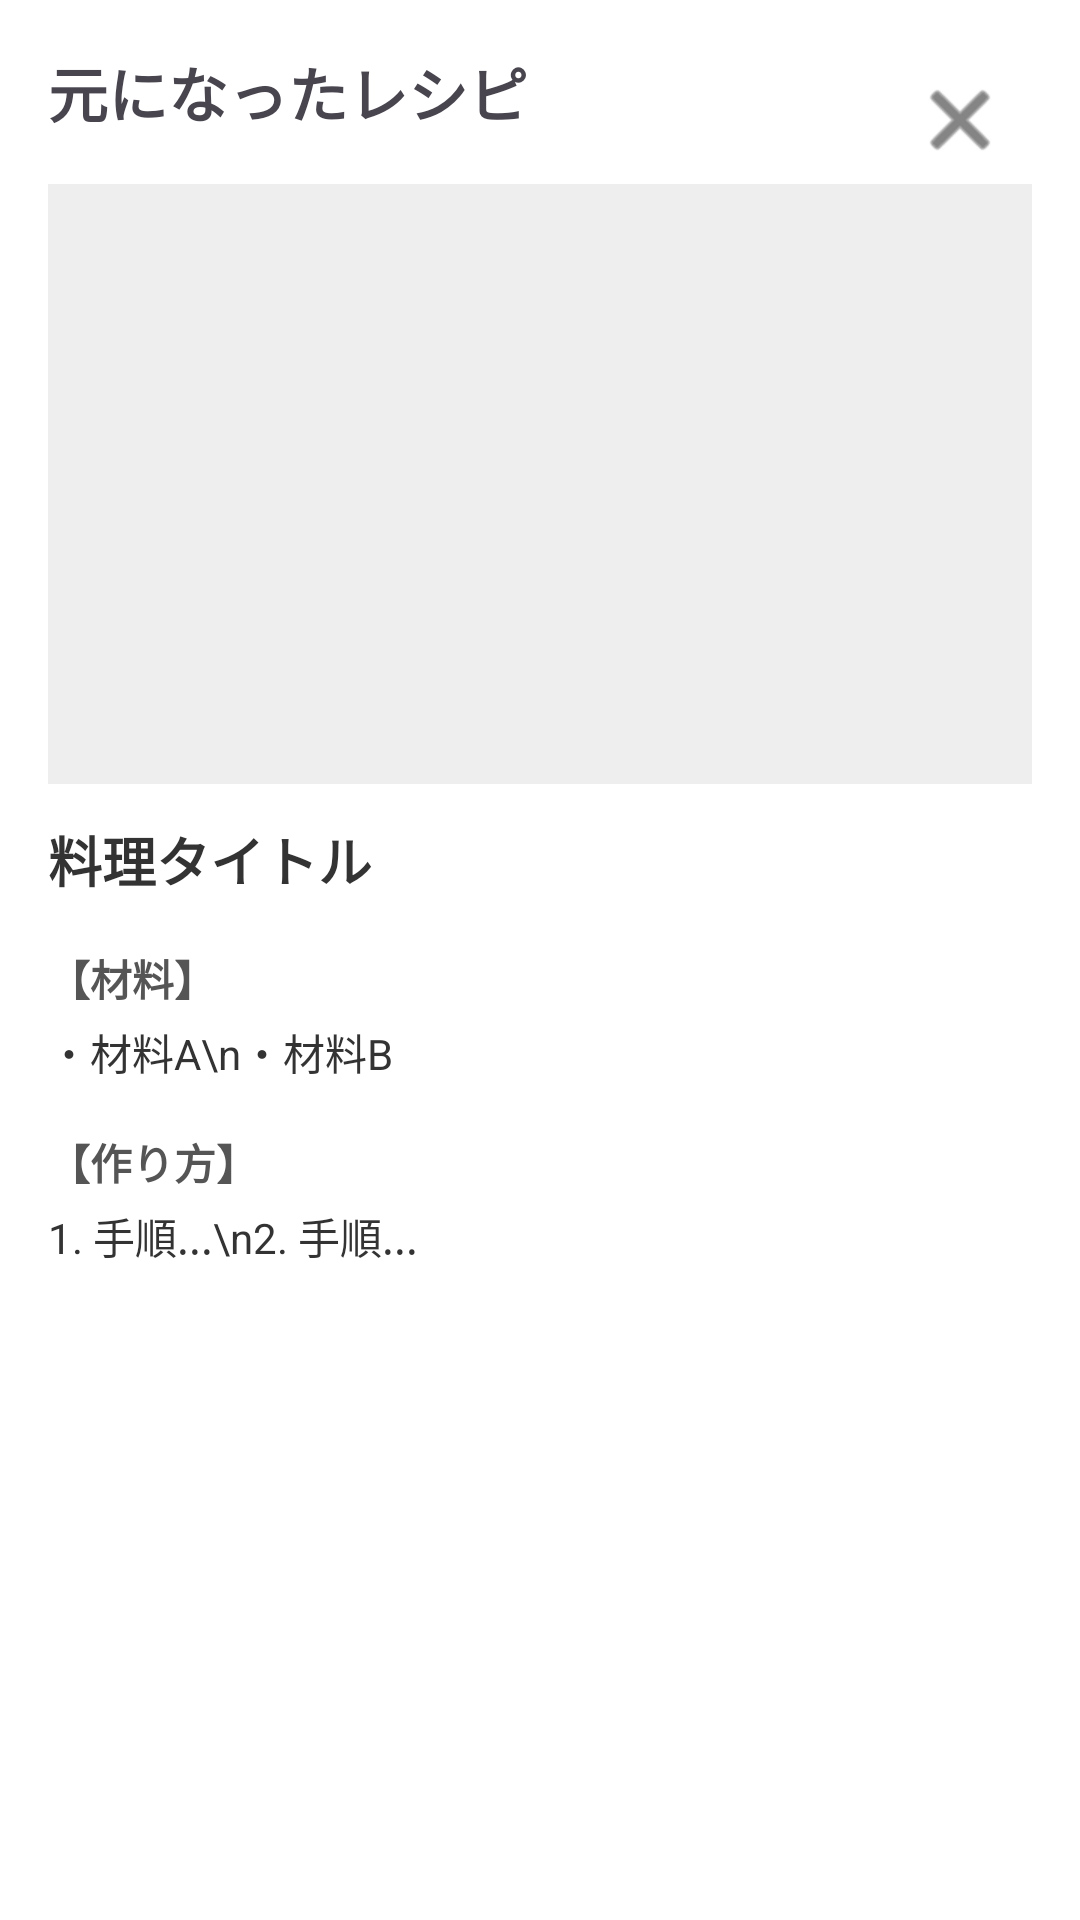

Point at icon controls on the screen. Image size 1080 × 1920, points as (x,y).
close clear cancel: (960,120)
